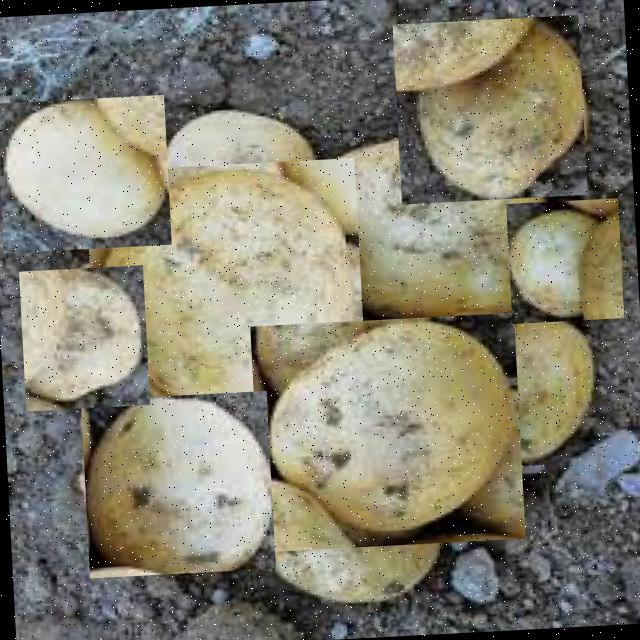Diseased-fungal potato: (85, 157, 367, 407), (250, 312, 526, 552), (308, 122, 546, 326), (392, 15, 588, 204), (81, 390, 276, 577), (246, 476, 444, 626), (446, 296, 602, 479), (19, 264, 150, 410)
Potato: (0, 93, 172, 252), (152, 90, 318, 218), (506, 197, 624, 323)
